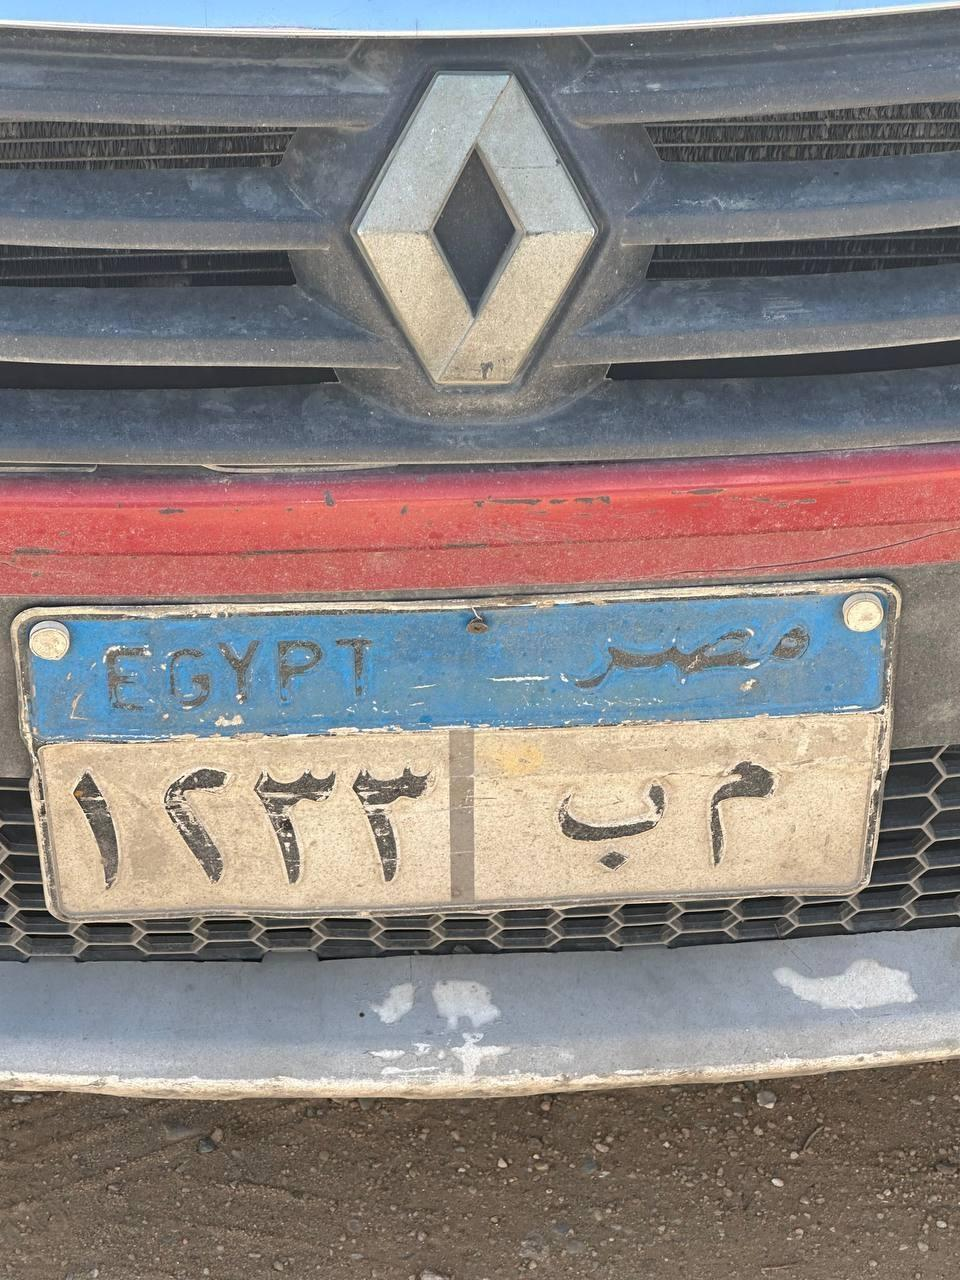1: (54, 759, 136, 910)
2: (154, 752, 234, 894)
3: (345, 750, 449, 883), (246, 754, 340, 894)
License Plate: (8, 572, 905, 941)
Meem: (702, 744, 783, 878)
baa: (552, 776, 668, 874)
